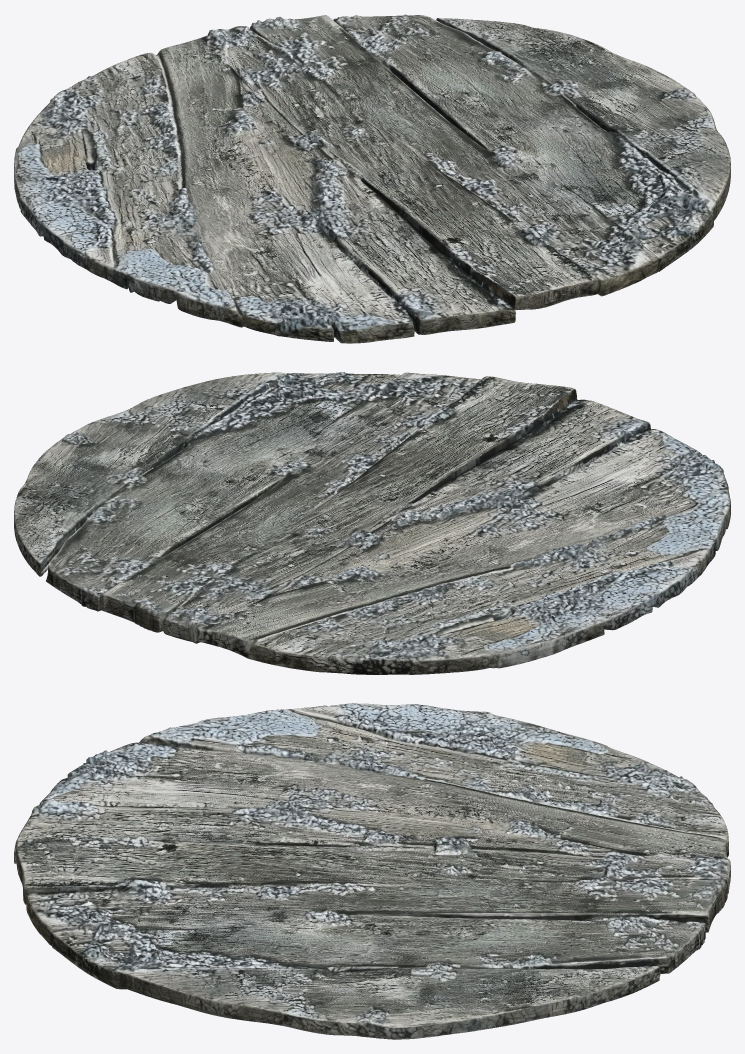
Rendered from s1_table.glb.
3 renders of one model, top to bottom at view 1: azimuth 30°, elevation 25°; view 2: azimuth 150°, elevation 25°; view 3: azimuth 270°, elevation 25°, orthographic. The views are drawn at different scales.
Parts seen in each view (by area): view 1: mesh_node; view 2: mesh_node; view 3: mesh_node.
Boxes of the visible parts, left/top/right/bottom form: mesh_node: left=14, top=14, right=730, bottom=343; mesh_node: left=14, top=372, right=730, bottom=674; mesh_node: left=14, top=703, right=730, bottom=1039.
Bounding box in the file's own units: 1.9 × 0.0891 × 1.82.
Materials: 1 (1 with a texture image).
